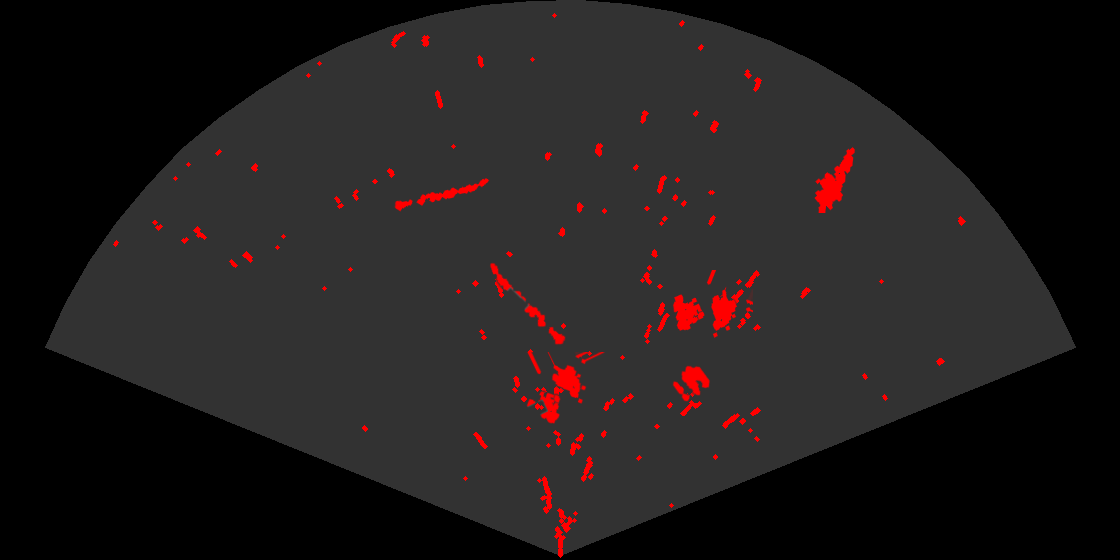ball: (671, 364, 711, 403)
cage: (525, 352, 606, 425), (671, 270, 753, 339)
chain: (488, 261, 567, 346), (392, 177, 491, 213)
frogman: (813, 146, 856, 213)
